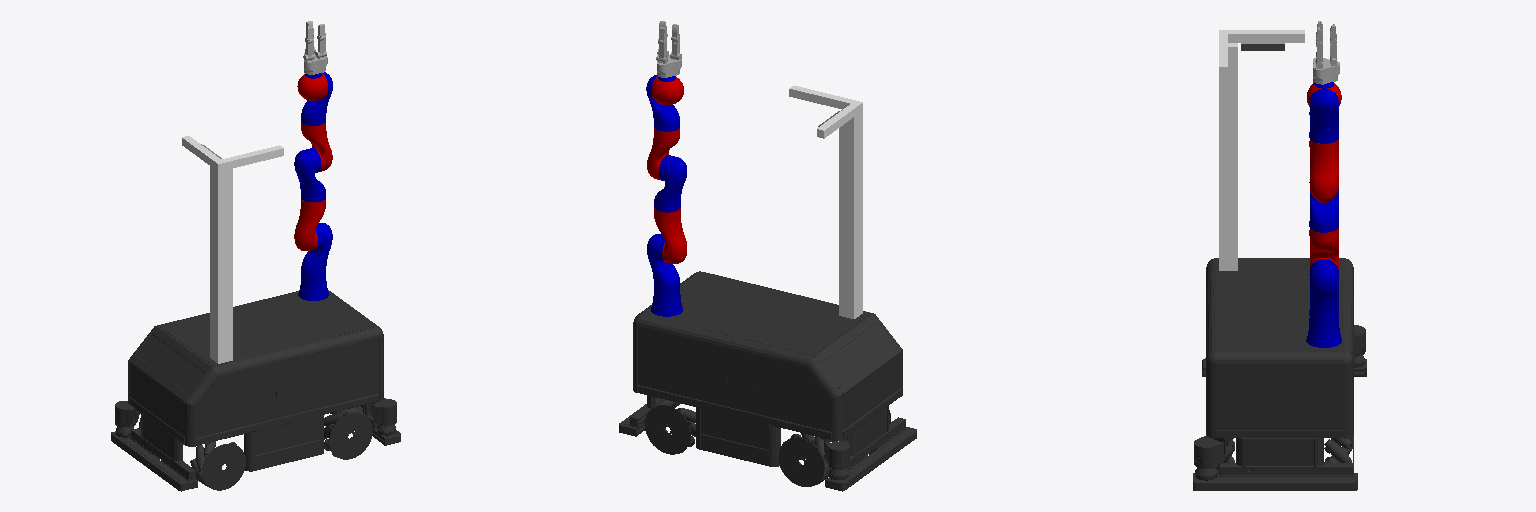
--- Render facts (derived) ---
Views: 3 orthographic renders of the robot side by side, from view 1: azimuth 30°, elevation 25°; view 2: azimuth 150°, elevation 25°; view 3: azimuth 270°, elevation 25°.
Model omnirob with 37 links and 36 joints (17 revolute, 1 prismatic, 18 fixed), rooted at global_base_link_1, posed all joints at 0.
Links seen in each view (by area): view 1: base_link, pole_base_link, lbr_3_link, lbr_2_link, lbr_1_link, pole_top_link, lbr_4_link, lbr_5_link, lbr_0_link, lbr_6_link; view 2: base_link, pole_base_link, lbr_3_link, lbr_2_link, lbr_1_link, lbr_4_link, lbr_5_link, pole_top_link, lbr_0_link, lbr_6_link, pole_top2_link; view 3: base_link, pole_base_link, lbr_1_link, lbr_4_link, lbr_5_link, lbr_3_link, lbr_0_link, lbr_2_link, pole_top2_link, pole_camera_link.
Link boxes in pixels (left/top/right/bottom): base_link: left=111, top=290, right=400, bottom=491; pole_base_link: left=210, top=166, right=232, bottom=363; lbr_3_link: left=294, top=148, right=325, bottom=202; lbr_2_link: left=294, top=199, right=325, bottom=250; lbr_1_link: left=301, top=223, right=332, bottom=278; pole_top_link: left=214, top=145, right=283, bottom=171; lbr_4_link: left=301, top=122, right=332, bottom=171; lbr_5_link: left=301, top=72, right=332, bottom=125; lbr_0_link: left=298, top=273, right=328, bottom=300; lbr_6_link: left=297, top=73, right=327, bottom=100; base_link: left=619, top=271, right=916, bottom=491; pole_base_link: left=839, top=111, right=862, bottom=318; lbr_3_link: left=654, top=155, right=686, bottom=212; lbr_2_link: left=654, top=208, right=686, bottom=263; lbr_1_link: left=647, top=234, right=679, bottom=291; lbr_4_link: left=647, top=128, right=679, bottom=180; lbr_5_link: left=646, top=75, right=679, bottom=131; pole_top_link: left=789, top=86, right=862, bottom=112; lbr_0_link: left=651, top=288, right=682, bottom=316; lbr_6_link: left=652, top=76, right=683, bottom=104; pole_top2_link: left=817, top=104, right=858, bottom=138; base_link: left=1193, top=258, right=1366, bottom=490; pole_base_link: left=1219, top=43, right=1237, bottom=270; lbr_1_link: left=1309, top=259, right=1338, bottom=321; lbr_4_link: left=1309, top=139, right=1338, bottom=202; lbr_5_link: left=1309, top=89, right=1338, bottom=143; lbr_3_link: left=1309, top=182, right=1338, bottom=232; lbr_0_link: left=1306, top=314, right=1341, bottom=347; lbr_2_link: left=1309, top=228, right=1338, bottom=271; pole_top2_link: left=1228, top=30, right=1304, bottom=42; pole_camera_link: left=1241, top=37, right=1284, bottom=50.
Bounding box of the posed robot: 1.2 × 0.712 × 2.07 m (x, y, z).
19 mesh visuals loaded from 13 distinct referenced files (13 binary STL).

The robot description file, URDF, robot "omnirob":
<?xml version="1.0" ?>
<!-- =================================================================================== -->
<!-- |    This document was autogenerated by xacro from omnirob_lbr_sdh2_prm_planner.xacro | -->
<!-- |    EDITING THIS FILE BY HAND IS NOT RECOMMENDED                                 | -->
<!-- =================================================================================== -->
<robot name="omnirob" xmlns:controller="http://playerstage.sourceforge.net/gazebo/xmlschema/#controller" xmlns:interface="http://playerstage.sourceforge.net/gazebo/xmlschema/#interface" xmlns:sensor="http://playerstage.sourceforge.net/gazebo/xmlschema/#sensor" xmlns:xacro="http://ros.org/wiki/xacro">
  <!-- Import all Gazebo-customization elements, including Gazebo colors -->
  <!-- ros_control plugin -->
  <gazebo>
    <plugin filename="libgazebo_ros_control.so" name="gazebo_ros_control">
      <robotNamespace>/lbr</robotNamespace>
      <robotSimType>gazebo_ros_control/DefaultRobotHWSim</robotSimType>
    </plugin>
  </gazebo>
  <!-- Link0 -->
  <gazebo reference="lbr_0_link">
    <material>Gazebo/Blue</material>
  </gazebo>
  <!-- Link1 -->
  <gazebo reference="lbr_1_link">
    <material>Gazebo/Red</material>
  </gazebo>
  <!-- Link2 -->
  <gazebo reference="lbr_2_link">
    <material>Gazebo/Blue</material>
  </gazebo>
  <!-- Link3 -->
  <gazebo reference="lbr_3_link">
    <material>Gazebo/Red</material>
  </gazebo>
  <!-- Link4 -->
  <gazebo reference="lbr_4_link">
    <material>Gazebo/Blue</material>
  </gazebo>
  <!-- Link5 -->
  <gazebo reference="lbr_5_link">
    <material>Gazebo/Red</material>
  </gazebo>
  <!-- Link6 -->
  <gazebo reference="lbr_6_link">
    <material>Gazebo/Blue</material>
  </gazebo>
  <!-- Link7 -->
  <gazebo reference="lbr_7_link">
    <material>Gazebo/Red</material>
  </gazebo>
  <!-- Import Rviz colors -->
  <material name="Blue">
    <color rgba="0.0 0.0 0.8 1.0"/>
  </material>
  <material name="Green">
    <color rgba="0.0 0.8 0.0 1.0"/>
  </material>
  <material name="Grey">
    <color rgba="0.7 0.7 0.7 1.0"/>
  </material>
  <material name="Grey2">
    <color rgba="0.9 0.9 0.9 1.0"/>
  </material>
  <material name="Red">
    <color rgba="0.8 0.0 0.0 1.0"/>
  </material>
  <material name="orange">
    <color rgba="1.0 0.423529411765 0.0392156862745 1.0"/>
  </material>
  <material name="brown">
    <color rgba="0.870588235294 0.811764705882 0.764705882353 1.0"/>
  </material>
  <material name="White">
    <color rgba="1.0 1.0 1.0 1.0"/>
  </material>
  <material name="Black">
    <color rgba="0.0 0.0 0.0 1.0"/>
  </material>
  <material name="pole_gray">
    <color rgba="0.9 0.9 0.9 1.0"/>
  </material>
  <material name="Schunk/LightGrey">
    <color rgba="0.7 0.7 0.7 1.0"/>
  </material>
  <material name="Schunk/DarkGrey">
    <color rgba="0.4 0.4 0.4 1.0"/>
  </material>
  <material name="Schunk/Black">
    <color rgba="0.0 0.0 0.0 1.0"/>
  </material>
  <material name="Schunk/DarkGolden">
    <color rgba="0.4 0.4 0.3 1.0"/>
  </material>
  <material name="Schunk/Blue">
    <color rgba="0.0 0.0 0.8 1.0"/>
  </material>
  <material name="asus_xtion_gray">
    <color rgba="0.6 0.6 0.6 1.0"/>
  </material>
  <material name="Gray">
    <color rgba="0.25 0.25 0.25 1.0"/>
  </material>
  <link name="global_base_link_1">
        </link>
  <link name="global_base_link_2">
        </link>
  <link name="global_base_link_3">
        </link>
  <link name="global_base_link_4">
        </link>
  <joint name="global_rot1_joint" type="revolute">
    <origin rpy="0 0 0" xyz="0 0 0"/>
    <parent link="global_base_link_1"/>
    <child link="global_base_link_2"/>
    <axis xyz="0 0 1"/>
    <limit effort="100" lower="0" upper="0" velocity="2"/>
  </joint>
  <joint name="global_lin_joint" type="prismatic">
    <origin rpy="0 0 0" xyz="0 0 0"/>
    <parent link="global_base_link_2"/>
    <child link="global_base_link_3"/>
    <axis xyz="1 0 0"/>
    <limit effort="100" lower="0" upper="0" velocity="2"/>
  </joint>
  <joint name="global_rot2_joint" type="revolute">
    <origin rpy="0 0 0" xyz="0 0 0"/>
    <parent link="global_base_link_3"/>
    <child link="global_base_link_4"/>
    <axis xyz="0 0 1"/>
    <limit effort="100" lower="0" upper="0" velocity="2"/>
  </joint>
  <link name="base_link">
    <visual>
      <origin rpy="0 0 0" xyz="0 0 0"/>
      <geometry>
        <mesh filename="package://omnirob_description/meshes/omnirob_hull.stl" scale="0.001 0.001 0.001"/>
      </geometry>
      <material name="Gray"/>
    </visual>
    <collision>
      <origin rpy="0 0 0" xyz="0 0 0"/>
      <geometry>
        <mesh filename="package://omnirob_description/meshes/omnirob_hull_low_res.stl" scale="0.001 0.001 0.001"/>
      </geometry>
    </collision>
  </link>
  <joint name="global_fixed_joint" type="fixed">
    <parent link="global_base_link_4"/>
    <child link="base_link"/>
  </joint>
  <link name="laser_front_link">
        </link>
  <link name="laser_rear_link">
        </link>
  <joint name="laser_front_joint" type="fixed">
    <parent link="base_link"/>
    <child link="laser_front_link"/>
    <origin rpy="0 0 -0.78893" xyz="0.542477 -0.317722 0.13664"/>
  </joint>
  <joint name="laser_rear_joint" type="fixed">
    <parent link="base_link"/>
    <child link="laser_rear_link"/>
    <origin rpy="0 0 2.31624" xyz="-0.534443 0.32895 0.13664"/>
  </joint>
  <!-- Used for fixing robot to Gazebo 'base_link' -->
  <!--<link name="world"/>
		
		<joint name="fixed" type="fixed">
		  <parent link="world"/>
		  <child link="${name}_0_link"/>
		</joint>-->
  <link name="lbr_0_link">
    <inertial>
      <origin rpy="0 0 0" xyz="0 0 0"/>
      <mass value="1.0"/>
      <inertia ixx="0.01" ixy="0" ixz="0" iyy="0.01" iyz="0" izz="0.01"/>
    </inertial>
    <visual>
      <origin rpy="0 0 0" xyz="0 0 0"/>
      <geometry>
        <mesh filename="package://omnirob_description/meshes/lbr0.stl"/>
      </geometry>
      <material name="Blue"/>
    </visual>
    <collision>
      <origin rpy="0 0 0" xyz="0 0 0"/>
      <geometry>
        <mesh filename="package://omnirob_description/meshes/lbr0_low_res.stl"/>
      </geometry>
    </collision>
  </link>
  <!-- joint between arm_0_link and arm_1_link -->
  <joint name="lbr_1_joint" type="revolute">
    <!--<origin xyz="0 0 0.14" rpy="0 0 -2.8407"/> -->
    <origin rpy="0 0 0" xyz="0 0 0.1105"/>
    <parent link="lbr_0_link"/>
    <child link="lbr_1_link"/>
    <axis xyz="0 0 1"/>
    <dynamics damping="25"/>
    <limit effort="200" lower="-2.9670" upper="2.9670" velocity="1.9634"/>
  </joint>
  <link name="lbr_1_link">
    <inertial>
      <origin rpy="0 0 0" xyz="0 0 0"/>
      <mass value="5.9907"/>
      <inertia ixx="0.01" ixy="0" ixz="0" iyy="0.01" iyz="0" izz="0.01"/>
    </inertial>
    <visual>
      <origin rpy="0 0 0" xyz="0 0 0"/>
      <geometry>
        <mesh filename="package://omnirob_description/meshes/lbr1.stl"/>
      </geometry>
      <material name="Blue"/>
    </visual>
    <collision>
      <origin rpy="0 0 0" xyz="0 0 0"/>
      <geometry>
        <mesh filename="package://omnirob_description/meshes/lbr1_low_res.stl"/>
      </geometry>
    </collision>
  </link>
  <!-- joint between arm_1_link and arm_2_link -->
  <joint name="lbr_2_joint" type="revolute">
    <origin rpy="1.5708 0 0" xyz="0 0 0.1915"/>
    <parent link="lbr_1_link"/>
    <child link="lbr_2_link"/>
    <axis xyz="0 0 1"/>
    <dynamics damping="25"/>
    <limit effort="200" lower="-2.0943" upper="2.0943" velocity="1.9634"/>
  </joint>
  <link name="lbr_2_link">
    <inertial>
      <origin rpy="0 0 0" xyz="0 0 0.002"/>
      <mass value="5.734939"/>
      <inertia ixx="0.03" ixy="0" ixz="0" iyy="0.03" iyz="0" izz="0.03"/>
    </inertial>
    <visual>
      <origin rpy="0 0 0" xyz="0 0 0.002"/>
      <geometry>
        <mesh filename="package://omnirob_description/meshes/lbr2.stl"/>
      </geometry>
      <material name="Red"/>
    </visual>
    <collision>
      <origin rpy="0 0 0" xyz="0 0 0.002"/>
      <geometry>
        <mesh filename="package://omnirob_description/meshes/lbr2_low_res.stl"/>
      </geometry>
    </collision>
  </link>
  <!-- joint between arm_2_link and arm_3_link -->
  <joint name="lbr_3_joint" type="revolute">
    <origin rpy="-1.5708 0 0" xyz="0 0.2085 0"/>
    <parent link="lbr_2_link"/>
    <child link="lbr_3_link"/>
    <axis xyz="0 0 1"/>
    <dynamics damping="25"/>
    <limit effort="100" lower="-2.9670" upper="2.9670" velocity="1.9634"/>
  </joint>
  <link name="lbr_3_link">
    <inertial>
      <origin rpy="0 0 0" xyz="0 -0.002 0"/>
      <mass value="4.214668"/>
      <inertia ixx="0.03" ixy="0" ixz="0" iyy="0.03" iyz="0" izz="0.03"/>
    </inertial>
    <visual>
      <origin rpy="0 0 0" xyz="0 -0.002 0"/>
      <geometry>
        <mesh filename="package://omnirob_description/meshes/lbr3.stl"/>
      </geometry>
      <material name="Blue"/>
    </visual>
    <collision>
      <origin rpy="0 0 0" xyz="0 -0.002 0"/>
      <geometry>
        <mesh filename="package://omnirob_description/meshes/lbr3_low_res.stl"/>
      </geometry>
    </collision>
  </link>
  <!-- joint between arm_3_link and arm_4_link -->
  <joint name="lbr_4_joint" type="revolute">
    <origin rpy="-1.5708 0 0" xyz="0 0 0.1915"/>
    <parent link="lbr_3_link"/>
    <child link="lbr_4_link"/>
    <axis xyz="0 0 1"/>
    <dynamics damping="25"/>
    <limit effort="100" lower="-2.0943" upper="2.0943" velocity="1.9634"/>
  </joint>
  <link name="lbr_4_link">
    <inertial>
      <origin rpy="0 0 0" xyz="0 0 0"/>
      <mass value="3.669819"/>
      <inertia ixx="0.03" ixy="0" ixz="0" iyy="0.03" iyz="0" izz="0.03"/>
    </inertial>
    <visual>
      <origin rpy="0 0 0" xyz="0 0 0"/>
      <geometry>
        <mesh filename="package://omnirob_description/meshes/lbr4.stl"/>
      </geometry>
      <material name="Red"/>
    </visual>
    <collision>
      <origin rpy="0 0 0" xyz="0 0 0"/>
      <geometry>
        <mesh filename="package://omnirob_description/meshes/lbr4_low_res.stl"/>
      </geometry>
    </collision>
  </link>
  <!-- joint between arm_4_link and arm_5_link -->
  <joint name="lbr_5_joint" type="revolute">
    <origin rpy="1.5708 0 0" xyz="0 -0.2085 0"/>
    <parent link="lbr_4_link"/>
    <child link="lbr_5_link"/>
    <axis xyz="0 0 1"/>
    <dynamics damping="25"/>
    <limit effort="100" lower="-2.9670" upper="2.9670" velocity="3.1415926"/>
  </joint>
  <link name="lbr_5_link">
    <inertial>
      <origin rpy="0 0 0" xyz="0 0 0"/>
      <mass value="2.313272"/>
      <inertia ixx="0.03" ixy="0" ixz="0" iyy="0.03" iyz="0" izz="0.03"/>
    </inertial>
    <visual>
      <origin rpy="0 0 0" xyz="0 0 0"/>
      <geometry>
        <mesh filename="package://omnirob_description/meshes/lbr5.stl"/>
      </geometry>
      <material name="Blue"/>
    </visual>
    <collision>
      <origin rpy="0 0 0" xyz="0 0 0"/>
      <geometry>
        <mesh filename="package://omnirob_description/meshes/lbr5_low_res.stl"/>
      </geometry>
    </collision>
  </link>
  <!-- joint between arm_5_link and arm_6_link -->
  <joint name="lbr_6_joint" type="revolute">
    <origin rpy="1.5708 0 0" xyz="0 0 0.1815"/>
    <parent link="lbr_5_link"/>
    <child link="lbr_6_link"/>
    <axis xyz="0 0 1"/>
    <dynamics damping="25"/>
    <limit effort="30" lower="-2.0943951" upper="2.0943951" velocity="1.9634"/>
  </joint>
  <link name="lbr_6_link">
    <inertial>
      <origin rpy="0 0 0" xyz="0 0 0"/>
      <mass value="2.057856"/>
      <inertia ixx="0.01" ixy="0" ixz="0" iyy="0.01" iyz="0" izz="0.01"/>
    </inertial>
    <visual>
      <origin rpy="0 0 0" xyz="0 0 -0.046"/>
      <geometry>
        <mesh filename="package://omnirob_description/meshes/lbr6.stl"/>
      </geometry>
      <material name="Red"/>
    </visual>
    <collision>
      <origin rpy="0 0 0" xyz="0 0 -0.046"/>
      <geometry>
        <mesh filename="package://omnirob_description/meshes/lbr6_low_res.stl"/>
      </geometry>
    </collision>
  </link>
  <!-- joint between arm_6_link and arm_7_link -->
  <joint name="lbr_7_joint" type="revolute">
    <origin rpy="-1.5708 0 0" xyz="0 0.057 0"/>
    <parent link="lbr_6_link"/>
    <child link="lbr_7_link"/>
    <axis xyz="0 0 1"/>
    <dynamics damping="25"/>
    <limit effort="30" lower="-2.9670" upper="2.9670" velocity="1.9634"/>
  </joint>
  <link name="lbr_7_link">
    <inertial>
      <origin rpy="0 0 0" xyz="0 0 0"/>
      <mass value="1.120198"/>
      <inertia ixx="0.01" ixy="0" ixz="0" iyy="0.01" iyz="0" izz="0.01"/>
    </inertial>
    <visual>
      <origin rpy="0 0 0" xyz="0 0 0"/>
      <geometry>
        <mesh filename="package://omnirob_description/meshes/lbr7.stl"/>
      </geometry>
      <material name="Blue"/>
    </visual>
    <collision>
      <origin rpy="0 0 0" xyz="0 0 0"/>
      <geometry>
        <mesh filename="package://omnirob_description/meshes/lbr7_low_res.stl"/>
      </geometry>
    </collision>
  </link>
  <joint name="flange" type="fixed">
    <parent link="lbr_7_link"/>
    <child link="lbr_flange_link"/>
    <origin rpy="0 0 0" xyz="0 0 0.0195"/>
  </joint>
  <link name="lbr_flange_link">
		</link>
  <transmission name="lbr_1_joint_trans">
    <type>pr2_mechanism_model/SimpleTransmission</type>
    <joint name="lbr_1_joint">
      <hardwareInterface>EffortJointInterface</hardwareInterface>
    </joint>
    <actuator name="lbr_1_joint_motor">
      <hardwareInterface>EffortJointInterface</hardwareInterface>
      <mechanicalReduction>1</mechanicalReduction>
    </actuator>
  </transmission>
  <transmission name="lbr_2_joint_trans">
    <type>pr2_mechanism_model/SimpleTransmission</type>
    <joint name="lbr_2_joint">
      <hardwareInterface>EffortJointInterface</hardwareInterface>
    </joint>
    <actuator name="lbr_2_joint_motor">
      <hardwareInterface>EffortJointInterface</hardwareInterface>
      <mechanicalReduction>1</mechanicalReduction>
    </actuator>
  </transmission>
  <transmission name="lbr_3_joint_trans">
    <type>pr2_mechanism_model/SimpleTransmission</type>
    <joint name="lbr_3_joint">
      <hardwareInterface>EffortJointInterface</hardwareInterface>
    </joint>
    <actuator name="lbr_3_joint_motor">
      <hardwareInterface>EffortJointInterface</hardwareInterface>
      <mechanicalReduction>1</mechanicalReduction>
    </actuator>
  </transmission>
  <transmission name="lbr_4_joint_trans">
    <type>pr2_mechanism_model/SimpleTransmission</type>
    <joint name="lbr_4_joint">
      <hardwareInterface>EffortJointInterface</hardwareInterface>
    </joint>
    <actuator name="lbr_4_joint_motor">
      <hardwareInterface>EffortJointInterface</hardwareInterface>
      <mechanicalReduction>1</mechanicalReduction>
    </actuator>
  </transmission>
  <transmission name="lbr_5_joint_trans">
    <type>pr2_mechanism_model/SimpleTransmission</type>
    <actuator name="lbr_5_joint_motor">
      <hardwareInterface>EffortJointInterface</hardwareInterface>
      <mechanicalReduction>1</mechanicalReduction>
    </actuator>
    <joint name="lbr_5_joint">
      <hardwareInterface>EffortJointInterface</hardwareInterface>
    </joint>
  </transmission>
  <transmission name="lbr_6_joint_trans">
    <type>pr2_mechanism_model/SimpleTransmission</type>
    <actuator name="lbr_6_joint_motor">
      <hardwareInterface>EffortJointInterface</hardwareInterface>
      <mechanicalReduction>1</mechanicalReduction>
    </actuator>
    <joint name="lbr_6_joint">
      <hardwareInterface>EffortJointInterface</hardwareInterface>
    </joint>
  </transmission>
  <transmission name="lbr_7_joint_trans">
    <type>pr2_mechanism_model/SimpleTransmission</type>
    <actuator name="lbr_7_joint_motor">
      <hardwareInterface>EffortJointInterface</hardwareInterface>
      <mechanicalReduction>1</mechanicalReduction>
    </actuator>
    <joint name="lbr_7_joint">
      <hardwareInterface>EffortJointInterface</hardwareInterface>
    </joint>
  </transmission>
  <joint name="omnirob_base_joint" type="fixed">
    <origin rpy="0 0 -1.5708" xyz="0.42 0.18 0.655"/>
    <parent link="base_link"/>
    <child link="lbr_0_link"/>
  </joint>
  <joint name="pole_base_joint" type="fixed">
    <origin rpy="0 0 0" xyz="-0.35 -0.25 0.64"/>
    <parent link="base_link"/>
    <child link="pole_base_link"/>
  </joint>
  <link name="pole_base_link">
    <visual>
      <geometry>
        <box size="0.08 0.08 1.01"/>
      </geometry>
      <origin xyz="0.04 0.04 0.505"/>
      <material name="pole_gray"/>
    </visual>
    <collision>
      <geometry>
        <box size="0.08 0.08 1.01"/>
      </geometry>
      <origin xyz="0.04 0.04 0.505"/>
    </collision>
  </link>
  <joint name="pole_top_joint" type="fixed">
    <parent link="pole_base_link"/>
    <child link="pole_top_link"/>
    <origin rpy="0 0 0" xyz="0 0 1.01"/>
  </joint>
  <!-- to front -->
  <link name="pole_top_link">
    <visual>
      <geometry>
        <box size="0.36 0.04 0.04"/>
      </geometry>
      <origin xyz="0.18 0.02 0.02"/>
      <material name="pole_gray"/>
    </visual>
    <collision>
      <geometry>
        <box size="0.36 0.04 0.04"/>
      </geometry>
      <origin xyz="0.18 0.02 0.02"/>
    </collision>
  </link>
  <joint name="pole_top2_joint" type="fixed">
    <parent link="pole_base_link"/>
    <child link="pole_top2_link"/>
    <origin rpy="0 0 1.57" xyz="0.04 0.04 1.01"/>
  </joint>
  <!-- to left -->
  <link name="pole_top2_link">
    <visual>
      <geometry>
        <box size="0.31 0.04 0.04"/>
      </geometry>
      <origin xyz="0.155 0.02 0.02"/>
      <material name="pole_gray"/>
    </visual>
    <collision>
      <geometry>
        <box size="0.31 0.04 0.04"/>
      </geometry>
      <origin xyz="0.155 0.02 0.02"/>
    </collision>
  </link>
  <joint name="pole_camera_base_joint" type="fixed">
    <parent link="pole_top2_link"/>
    <child link="pole_camera_link"/>
    <origin rpy="0 0.5 -1.57" xyz="0.14 -0.01 0"/>
  </joint>
  <link name="pole_camera_depth_frame"/>
  <link name="pole_camera_rgb_frame"/>
  <link name="pole_camera_depth_optical_frame"/>
  <link name="pole_camera_rgb_optical_frame"/>
  <link name="pole_camera_link">
    <visual>
      <geometry>
        <box size="0.04 0.18 0.048"/>
      </geometry>
      <origin xyz="0 0 0"/>
      <material name="asus_xtion_gray"/>
    </visual>
    <collision>
      <geometry>
        <box size="0.04 0.18 0.048"/>
      </geometry>
      <origin xyz="0 0 0"/>
    </collision>
  </link>
  <joint name="pole_camera_joint1" type="fixed">
    <parent link="pole_camera_link"/>
    <child link="pole_camera_depth_frame"/>
    <origin rpy="0 0 0" xyz="0 0.049 0.013"/>
  </joint>
  <joint name="pole_camera_joint2" type="fixed">
    <parent link="pole_camera_link"/>
    <child link="pole_camera_rgb_frame"/>
    <origin rpy="0 0 0" xyz="0 0.022 0.013"/>
  </joint>
  <joint name="pole_camera_joint3" type="fixed">
    <parent link="pole_camera_depth_frame"/>
    <child link="pole_camera_depth_optical_frame"/>
    <origin rpy="-1.57 0 -1.57" xyz="0 0 0"/>
  </joint>
  <joint name="pole_camera_joint4" type="fixed">
    <parent link="pole_camera_rgb_frame"/>
    <child link="pole_camera_rgb_optical_frame"/>
    <origin rpy="-1.57 0 -1.57" xyz="0 0 0"/>
  </joint>
  <link name="sdh2_palm_link">
    <inertial>
      <origin rpy="0 0 0" xyz="0 0 0"/>
      <mass value="1"/>
      <inertia ixx="0.01" ixy="0" ixz="0" iyy="0.01" iyz="0" izz="0.01"/>
    </inertial>
    <visual>
      <origin rpy="0 0 0" xyz="0 0 0"/>
      <geometry>
        <mesh filename="package://sdh2_description/meshes/palm.stl"/>
      </geometry>
      <material name="Schunk/LightGrey"/>
    </visual>
    <collision>
      <origin rpy="0 0 0" xyz="0 0 0"/>
      <geometry>
        <mesh filename="package://sdh2_description/meshes/palm_low_res.stl"/>
      </geometry>
    </collision>
  </link>
  <!-- grasp joint -->
  <joint name="sdh2_grasp_joint" type="fixed">
    <origin rpy="0 0 0" xyz="0 0 0.15"/>
    <parent link="sdh2_palm_link"/>
    <child link="sdh2_grasp_link"/>
  </joint>
  <link name="sdh2_grasp_link"/>
  <!-- tip joint -->
  <joint name="sdh2_tip_joint" type="fixed">
    <origin rpy="0 0 0" xyz="0 0 0.22"/>
    <parent link="sdh2_palm_link"/>
    <child link="sdh2_tip_link"/>
  </joint>
  <link name="sdh2_tip_link"/>
  <!-- push joint -->
  <joint name="sdh2_push_joint" type="fixed">
    <origin rpy="0 0 0" xyz="0 0 0.25"/>
    <parent link="sdh2_palm_link"/>
    <child link="sdh2_push_link"/>
  </joint>
  <link name="sdh2_push_link"/>
  <!-- finger1 -->
  <!-- joint between sdh_palm_link and sdh_finger_11_link -->
  <joint name="sdh2_knuckle_joint" type="revolute">
    <origin rpy="0 0 3.14159265" xyz="0.01905 0.033 0.0745"/>
    <parent link="sdh2_palm_link"/>
    <child link="sdh2_finger_11_link"/>
    <axis xyz="0 0 1"/>
    <dynamics damping="1"/>
    <limit effort="100" lower="0" upper="1.570796327" velocity="5"/>
  </joint>
  <link name="sdh2_finger_11_link">
    <inertial>
      <origin rpy="0 0 0" xyz="0 0 0"/>
      <mass value="0.1"/>
      <inertia ixx="0.01" ixy="0" ixz="0" iyy="0.01" iyz="0" izz="0.01"/>
    </inertial>
    <visual>
      <origin rpy="0 0 0" xyz="0 0 0"/>
      <geometry>
        <mesh filename="package://sdh2_description/meshes/knuckle.stl"/>
      </geometry>
      <material name="Schunk/LightGrey"/>
    </visual>
    <collision>
      <origin rpy="0 0 0" xyz="0 0 0"/>
      <geometry>
        <mesh filename="package://sdh2_description/meshes/knuckle_low_res.stl"/>
      </geometry>
    </collision>
  </link>
  <!-- joint between sdh_finger_11_link and sdh_finger_12_link -->
  <joint name="sdh2_finger_12_joint" type="revolute">
    <origin rpy="0 0 0" xyz="0 0 0.0165"/>
    <parent link="sdh2_finger_11_link"/>
    <child link="sdh2_finger_12_link"/>
    <axis xyz="0 1 0"/>
    <dynamics damping="1"/>
    <limit effort="100" lower="-1.570796327" upper="1.570796327" velocity="5"/>
  </joint>
  <link name="sdh2_finger_12_link">
    <inertial>
      <origin rpy="0 0 0" xyz="0 0 0"/>
      <mass value="0.1"/>
      <inertia ixx="0.01" ixy="0" ixz="0" iyy="0.01" iyz="0" izz="0.01"/>
    </inertial>
    <visual>
      <origin rpy="0 0 0" xyz="0 0 0"/>
      <geometry>
        <mesh filename="package://sdh2_description/meshes/finger.stl"/>
      </geometry>
      <material name="Schunk/LightGrey"/>
    </visual>
    <collision>
      <origin rpy="0 0 0" xyz="0 0 0"/>
      <geometry>
        <mesh filename="package://sdh2_description/meshes/finger_low_res.stl"/>
      </geometry>
    </collision>
  </link>
  <!-- joint between sdh_finger_12_link and sdh_finger_13_link -->
  <joint name="sdh2_finger_13_joint" type="revolute">
    <origin rpy="0 0 0" xyz="0 0 0.0865"/>
    <parent link="sdh2_finger_12_link"/>
    <child link="sdh2_finger_13_link"/>
    <axis xyz="0 1 0"/>
    <dynamics damping="1"/>
    <limit effort="100" lower="-1.570796327" upper="1.570796327" velocity="5"/>
  </joint>
  <link name="sdh2_finger_13_link">
    <inertial>
      <origin rpy="0 0 0" xyz="0 0 0"/>
      <mass value="0.1"/>
      <inertia ixx="0.01" ixy="0" ixz="0" iyy="0.01" iyz="0" izz="0.01"/>
    </inertial>
    <visual>
      <origin rpy="0 0 0" xyz="0 0 0"/>
      <geometry>
        <mesh filename="package://sdh2_description/meshes/finger_tip.stl"/>
      </geometry>
      <material name="Schunk/LightGrey"/>
    </visual>
    <collision>
      <origin rpy="0 0 0" xyz="0 0 0"/>
      <geometry>
        <mesh filename="package://sdh2_description/meshes/finger_tip_low_res.stl"/>
      </geometry>
    </collision>
  </link>
  <!-- finger2 -->
  <!-- joint between sdh_palm_link and sdh_finger_21_link -->
  <joint name="sdh2_finger_21_joint" type="revolute">
    <mimic joint="sdh2_knuckle_joint" multiplier="1" offset="0"/>
    <origin rpy="0 0 3.14159265" xyz="0.01905 -0.033 0.0745"/>
    <parent link="sdh2_palm_link"/>
    <child link="sdh2_finger_21_link"/>
    <axis xyz="0 0 -1"/>
    <dynamics damping="1"/>
    <limit effort="100" lower="0" upper="1.570796327" velocity="5"/>
  </joint>
  <link name="sdh2_finger_21_link">
    <inertial>
      <origin rpy="0 0 0" xyz="0 0 0"/>
      <mass value="0.1"/>
      <inertia ixx="0.01" ixy="0" ixz="0" iyy="0.01" iyz="0" izz="0.01"/>
    </inertial>
    <visual>
      <origin rpy="0 0 0" xyz="0 0 0"/>
      <geometry>
        <mesh filename="package://sdh2_description/meshes/knuckle.stl"/>
      </geometry>
      <material name="Schunk/LightGrey"/>
    </visual>
    <collision>
      <origin rpy="0 0 0" xyz="0 0 0"/>
      <geometry>
        <mesh filename="package://sdh2_description/meshes/knuckle_low_res.stl"/>
      </geometry>
    </collision>
  </link>
  <!-- joint between sdh_finger_21_link and sdh_finger_22_link -->
  <joint name="sdh2_finger_22_joint" type="revolute">
    <origin rpy="0 0 0" xyz="0 0 0.0165"/>
    <parent link="sdh2_finger_21_link"/>
    <child link="sdh2_finger_22_link"/>
    <axis xyz="0 1 0"/>
    <dynamics damping="1"/>
    <limit effort="100" lower="-1.570796327" upper="1.570796327" velocity="5"/>
  </joint>
  <link name="sdh2_finger_22_link">
    <inertial>
      <origin rpy="0 0 0" xyz="0 0 0"/>
      <mass value="0.1"/>
      <inertia ixx="0.01" ixy="0" ixz="0" iyy="0.01" iyz="0" izz="0.01"/>
    </inertial>
    <visual>
      <origin rpy="0 0 0" xyz="0 0 0"/>
      <geometry>
        <mesh filename="package://sdh2_description/meshes/finger.stl"/>
      </geometry>
      <material name="Schunk/LightGrey"/>
    </visual>
    <collision>
      <origin rpy="0 0 0" xyz="0 0 0"/>
      <geometry>
        <mesh filename="package://sdh2_description/meshes/finger_low_res.stl"/>
      </geometry>
    </collision>
  </link>
  <!-- joint between sdh_finger_22_link and sdh_finger_23_link -->
  <joint name="sdh2_finger_23_joint" type="revolute">
    <origin rpy="0 0 0" xyz="0 0 0.0865"/>
    <parent link="sdh2_finger_22_link"/>
    <child link="sdh2_finger_23_link"/>
    <axis xyz="0 1 0"/>
    <dynamics damping="1"/>
    <limit effort="100" lower="-1.570796327" upper="1.570796327" velocity="5"/>
  </joint>
  <link name="sdh2_finger_23_link">
    <inertial>
      <origin rpy="0 0 0" xyz="0 0 0"/>
      <mass value="0.1"/>
      <inertia ixx="0.01" ixy="0" ixz="0" iyy="0.01" iyz="0" izz="0.01"/>
    </inertial>
    <visual>
      <origin rpy="0 0 0" xyz="0 0 0"/>
      <geometry>
        <mesh filename="package://sdh2_description/meshes/finger_tip.stl"/>
      </geometry>
      <material name="Schunk/LightGrey"/>
    </visual>
    <collision>
      <origin rpy="0 0 0" xyz="0 0 0"/>
      <geometry>
        <mesh filename="package://sdh2_description/meshes/finger_tip_low_res.stl"/>
      </geometry>
    </collision>
  </link>
  <!-- thumb -->
  <!-- joint between sdh_palm_link and sdh_thumb_1_link -->
  <joint name="sdh2_thumb_1_joint" type="fixed">
    <origin rpy="0 0 0" xyz="-0.03811 0 0.0745 "/>
    <parent link="sdh2_palm_link"/>
    <child link="sdh2_thumb_1_link"/>
  </joint>
  <link name="sdh2_thumb_1_link">
    <inertial>
      <origin rpy="0 0 0" xyz="0 0 0"/>
      <mass value="0.1"/>
      <inertia ixx="0.01" ixy="0" ixz="0" iyy="0.01" iyz="0" izz="0.01"/>
    </inertial>
    <visual>
      <origin rpy="0 0 0" xyz="0 0 0"/>
      <geometry>
        <mesh filename="package://sdh2_description/meshes/knuckle.stl"/>
      </geometry>
      <material name="Schunk/LightGrey"/>
    </visual>
    <collision>
      <origin rpy="0 0 0" xyz="0 0 0"/>
      <geometry>
        <mesh filename="package://sdh2_description/meshes/knuckle_low_res.stl"/>
      </geometry>
    </collision>
  </link>
  <!-- joint between sdh_thumb_1_link and shd_thumb_2_link -->
  <joint name="sdh2_thumb_2_joint" type="revolute">
    <origin rpy="0 0 0" xyz="0 0 0.0165"/>
    <parent link="sdh2_thumb_1_link"/>
    <child link="sdh2_thumb_2_link"/>
    <axis xyz="0 1 0"/>
    <dynamics damping="1"/>
    <limit effort="100" lower="-1.570796327" upper="1.570796327" velocity="5"/>
  </joint>
  <link name="sdh2_thumb_2_link">
    <inertial>
      <origin rpy="0 0 0" xyz="0 0 0"/>
      <mass value="0.1"/>
      <inertia ixx="0.01" ixy="0" ixz="0" iyy="0.01" iyz="0" izz="0.01"/>
    </inertial>
    <visual>
      <origin rpy="0 0 0" xyz="0 0 0"/>
      <geometry>
        <mesh filename="package://sdh2_description/meshes/finger.stl"/>
      </geometry>
      <material name="Schunk/LightGrey"/>
    </visual>
    <collision>
      <origin rpy="0 0 0" xyz="0 0 0"/>
      <geometry>
        <mesh filename="package://sdh2_description/meshes/finger_low_res.stl"/>
      </geometry>
    </collision>
  </link>
  <!-- joint between sdh_thumb_2_link and sdh_thumb_3_link -->
  <joint name="sdh2_thumb_3_joint" type="revolute">
    <origin rpy="0 0 0" xyz="0 0 0.0865"/>
    <parent link="sdh2_thumb_2_link"/>
    <child link="sdh2_thumb_3_link"/>
    <axis xyz="0 1 0"/>
    <dynamics damping="1"/>
    <limit effort="100" lower="-1.570796327" upper="1.570796327" velocity="5"/>
  </joint>
  <link name="sdh2_thumb_3_link">
    <inertial>
      <origin rpy="0 0 0" xyz="0 0 0"/>
      <mass value="0.1"/>
      <inertia ixx="0.01" ixy="0" ixz="0" iyy="0.01" iyz="0" izz="0.01"/>
    </inertial>
    <visual>
      <origin rpy="0 0 0" xyz="0 0 0"/>
      <geometry>
        <mesh filename="package://sdh2_description/meshes/finger_tip.stl"/>
      </geometry>
      <material name="Schunk/LightGrey"/>
    </visual>
    <collision>
      <origin rpy="0 0 0" xyz="0 0 0"/>
      <geometry>
        <mesh filename="package://sdh2_description/meshes/finger_tip_low_res.stl"/>
      </geometry>
    </collision>
  </link>
  <!-- extensions -->
  <!-- ros_control plugin -->
  <gazebo>
    <plugin filename="libgazebo_ros_control.so" name="gazebo_ros_control">
      <robotNamespace>/sdh2</robotNamespace>
      <robotSimType>gazebo_ros_control/DefaultRobotHWSim</robotSimType>
    </plugin>
  </gazebo>
  <gazebo reference="sdh2_palm_link">
    <material>Schunk/LightGrey</material>
    <turnGravityOff>false</turnGravityOff>
  </gazebo>
  <gazebo reference="sdh2_finger_11_link">
    <material>Schunk/LightGrey</material>
    <turnGravityOff>false</turnGravityOff>
  </gazebo>
  <gazebo reference="sdh2_finger_12_link">
    <selfCollide>true</selfCollide>
    <material>Schunk/LightGrey</material>
    <turnGravityOff>false</turnGravityOff>
  </gazebo>
  <gazebo reference="sdh2_finger_13_link">
    <selfCollide>true</selfCollide>
    <material>Schunk/LightGrey</material>
  </gazebo>
  <gazebo reference="sdh2_finger_21_link">
    <material>Schunk/LightGrey</material>
    <turnGravityOff>false</turnGravityOff>
  </gazebo>
  <gazebo reference="sdh2_finger_22_link">
    <selfCollide>true</selfCollide>
    <material>Schunk/LightGrey</material>
    <turnGravityOff>false</turnGravityOff>
  </gazebo>
  <gazebo reference="sdh2_finger_23_link">
    <selfCollide>true</selfCollide>
    <material>Schunk/LightGrey</material>
  </gazebo>
  <gazebo reference="sdh2_thumb_1_link">
    <material>Schunk/LightGrey</material>
    <turnGravityOff>false</turnGravityOff>
  </gazebo>
  <gazebo reference="sdh2_thumb_2_link">
    <selfCollide>true</selfCollide>
    <material>Schunk/LightGrey</material>
    <turnGravityOff>false</turnGravityOff>
  </gazebo>
  <gazebo reference="sdh2_thumb_3_link">
    <selfCollide>true</selfCollide>
    <material>Schunk/LightGrey</material>
  </gazebo>
  <transmission name="sdh2_knuckle_trans">
    <type>pr2_mechanism_model/SimpleTransmission</type>
    <actuator name="sdh2_knuckle_motor">
      <hardwareInterface>EffortJointInterface</hardwareInterface>
    </actuator>
    <joint name="sdh2_finger_21_joint">
      <hardwareInterface>EffortJointInterface</hardwareInterface>
    </joint>
    <mechanicalReduction>1</mechanicalReduction>
  </transmission>
  <transmission name="sdh2_knuckle_trans">
    <type>pr2_mechanism_model/SimpleTransmission</type>
    <actuator name="sdh2_knuckle_motor">
      <hardwareInterface>EffortJointInterface</hardwareInterface>
    </actuator>
    <joint name="sdh2_knuckle_joint">
      <hardwareInterface>EffortJointInterface</hardwareInterface>
    </joint>
    <mechanicalReduction>1</mechanicalReduction>
  </transmission>
  <!-- finger1 -->
  <transmission name="sdh2_finger_12_trans">
    <type>pr2_mechanism_model/SimpleTransmission</type>
    <actuator name="sdh2_finger_12_motor">
      <hardwareInterface>EffortJointInterface</hardwareInterface>
    </actuator>
    <joint name="sdh2_finger_12_joint">
      <hardwareInterface>EffortJointInterface</hardwareInterface>
    </joint>
    <mechanicalReduction>1</mechanicalReduction>
  </transmission>
  <transmission name="sdh2_finger_13_trans">
    <type>pr2_mechanism_model/SimpleTransmission</type>
    <actuator name="sdh2_finger_13_motor">
      <hardwareInterface>EffortJointInterface</hardwareInterface>
    </actuator>
    <joint name="sdh2_finger_13_joint">
      <hardwareInterface>EffortJointInterface</hardwareInterface>
    </joint>
    <mechanicalReduction>1</mechanicalReduction>
  </transmission>
  <!-- finger2 -->
  <transmission name="sdh2_finger_22_trans">
    <type>pr2_mechanism_model/SimpleTransmission</type>
    <actuator name="sdh2_finger_22_motor">
      <hardwareInterface>EffortJointInterface</hardwareInterface>
    </actuator>
    <joint name="sdh2_finger_22_joint">
      <hardwareInterface>EffortJointInterface</hardwareInterface>
    </joint>
    <mechanicalReduction>1</mechanicalReduction>
  </transmission>
  <transmission name="sdh2_finger_23_trans">
    <type>pr2_mechanism_model/SimpleTransmission</type>
    <actuator name="sdh2_finger_23_motor">
      <hardwareInterface>EffortJointInterface</hardwareInterface>
    </actuator>
    <joint name="sdh2_finger_23_joint">
      <hardwareInterface>EffortJointInterface</hardwareInterface>
    </joint>
    <mechanicalReduction>1</mechanicalReduction>
  </transmission>
  <!-- thumb -->
  <transmission name="sdh2_thumb_2_trans">
    <type>pr2_mechanism_model/SimpleTransmission</type>
    <actuator name="sdh2_thumb_2_motor">
      <hardwareInterface>EffortJointInterface</hardwareInterface>
    </actuator>
    <joint name="sdh2_thumb_2_joint">
      <hardwareInterface>EffortJointInterface</hardwareInterface>
    </joint>
    <mechanicalReduction>1</mechanicalReduction>
  </transmission>
  <transmission name="sdh2_thumb_3_trans">
    <type>pr2_mechanism_model/SimpleTransmission</type>
    <actuator name="sdh2_thumb_3_motor">
      <hardwareInterface>EffortJointInterface</hardwareInterface>
    </actuator>
    <joint name="sdh2_thumb_3_joint">
      <hardwareInterface>EffortJointInterface</hardwareInterface>
    </joint>
    <mechanicalReduction>1</mechanicalReduction>
  </transmission>
  <joint name="sdh2_palm_joint" type="fixed">
    <origin rpy="0 0 0" xyz="0 0 0"/>
    <parent link="lbr_flange_link"/>
    <child link="sdh2_palm_link"/>
  </joint>
</robot>
